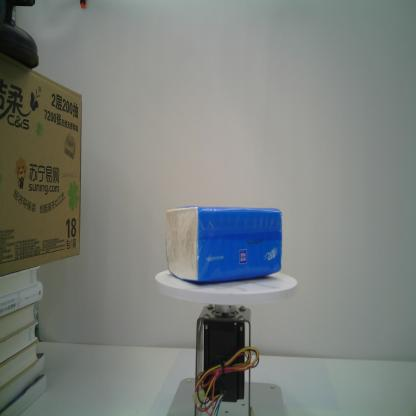Tissue: (164, 206, 283, 283)
